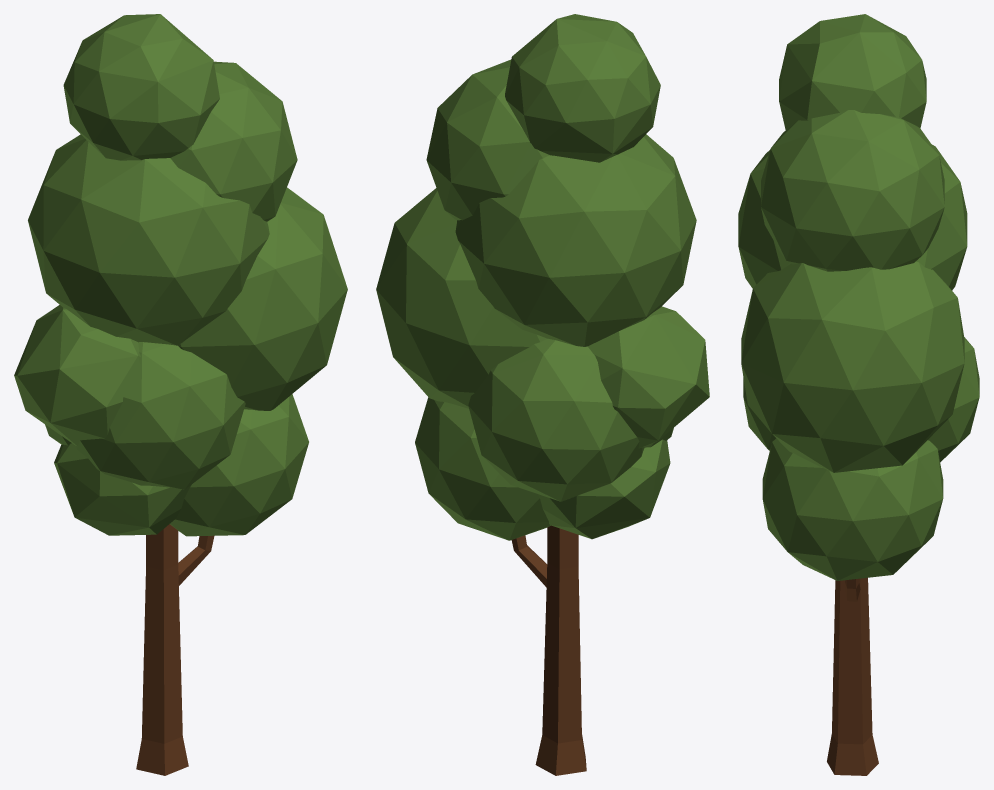
File: Tree2.c78c0f10.glb
3 renders of one model, left to right at view 1: azimuth 30°, elevation 25°; view 2: azimuth 150°, elevation 25°; view 3: azimuth 270°, elevation 25°, orthographic.
Parts seen in each view (by area): view 1: tree-oak; view 2: tree-oak; view 3: tree-oak.
Part boxes in pixels (x1,y1,x2,y2): tree-oak: (14,14,347,775); tree-oak: (376,14,709,775); tree-oak: (738,14,979,775).
Bounding box in the file's own units: 12.93 × 29.8 × 8.86.
Materials: 1 (1 with a texture image).
